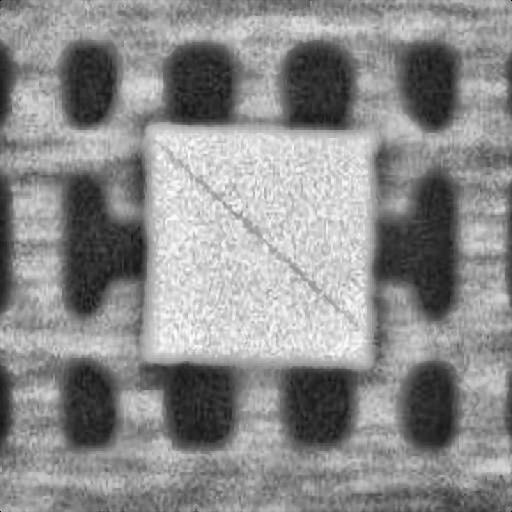DIE_CRACK: (230, 92, 512, 216)
